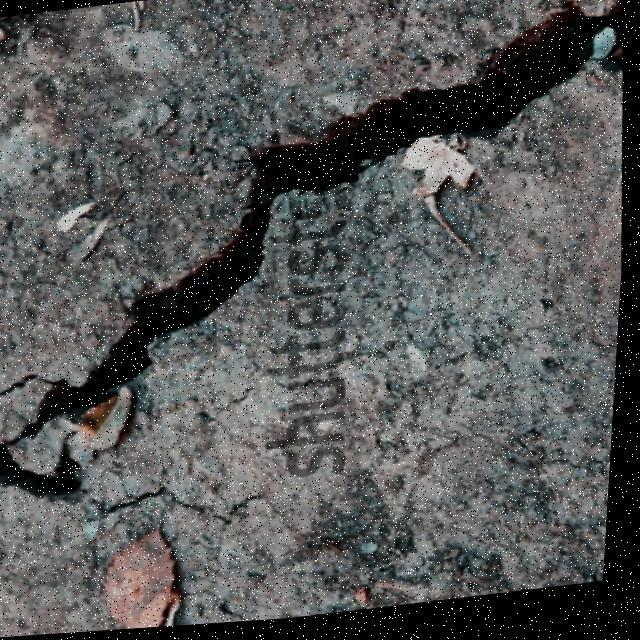branched cracks: (0, 0, 632, 523)
